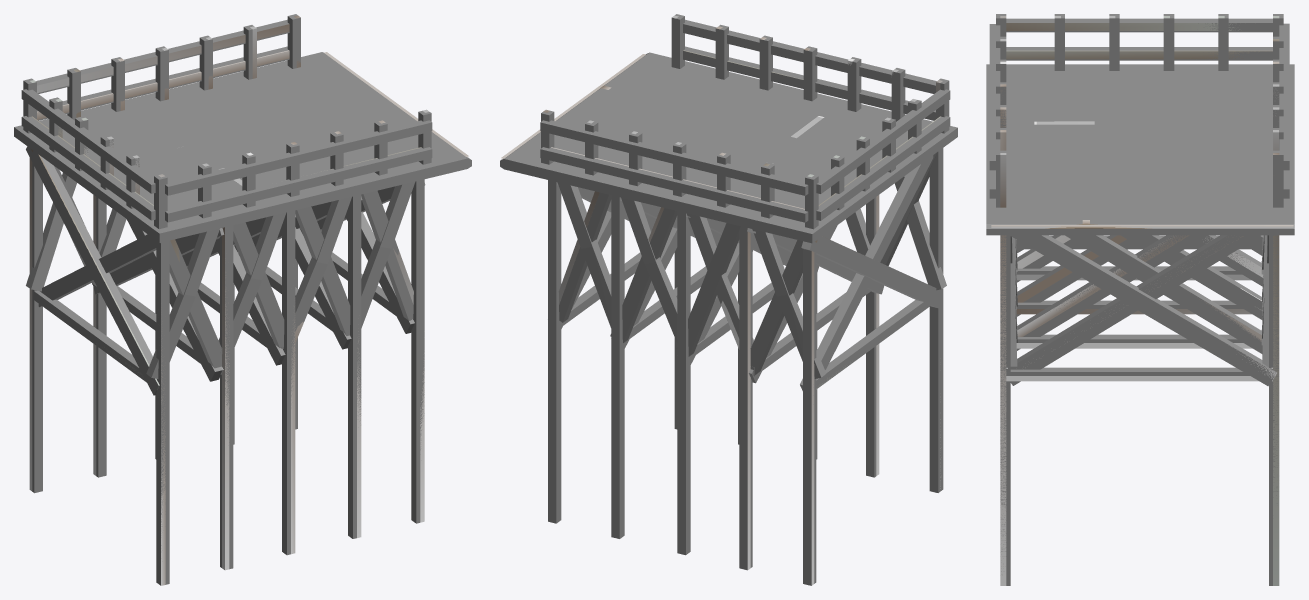
The model's file is ut_platform_wood.DAE.
3 views of the same model, side by side, from view 1: azimuth 30°, elevation 25°; view 2: azimuth 150°, elevation 25°; view 3: azimuth 270°, elevation 25° (orthographic). The views are drawn at different scales.
Parts seen in each view (by area): view 1: colmesh-1, platform_wood_c1000; view 2: colmesh-1, platform_wood_c1000; view 3: colmesh-1, platform_wood_c1000, platform_wood_c100.
Boxes of the visible parts, left/top/right/bottom form: colmesh-1: left=14, top=14, right=471, bottom=585; platform_wood_c1000: left=29, top=15, right=429, bottom=585; colmesh-1: left=500, top=14, right=957, bottom=585; platform_wood_c1000: left=543, top=15, right=942, bottom=585; colmesh-1: left=986, top=14, right=1294, bottom=585; platform_wood_c1000: left=1000, top=16, right=1279, bottom=585; platform_wood_c100: left=991, top=225, right=1293, bottom=227.
Bounding box in the file's own units: 12.85 × 10.35 × 16.04.
